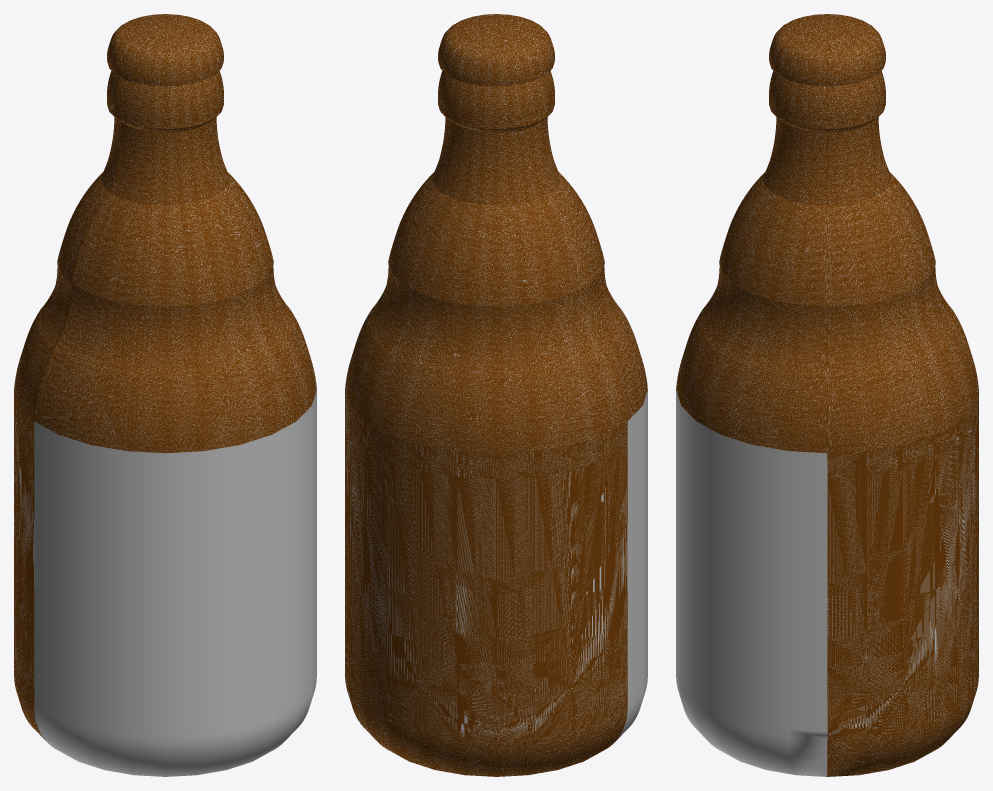
The picture shows the model from 3 angles, left to right: view 1: azimuth 30°, elevation 25°; view 2: azimuth 150°, elevation 25°; view 3: azimuth 270°, elevation 25°; orthographic projection.
Visible parts, largest first — view 1: mesh1_mesh1-geometry, mesh2_mesh2-geometry; view 2: mesh1_mesh1-geometry, mesh2_mesh2-geometry; view 3: mesh1_mesh1-geometry, mesh2_mesh2-geometry.
Boxes of the visible parts, left/top/right/bottom form: mesh1_mesh1-geometry: left=14, top=71, right=316, bottom=776; mesh2_mesh2-geometry: left=107, top=14, right=223, bottom=86; mesh1_mesh1-geometry: left=345, top=71, right=647, bottom=776; mesh2_mesh2-geometry: left=438, top=14, right=554, bottom=86; mesh1_mesh1-geometry: left=676, top=71, right=978, bottom=776; mesh2_mesh2-geometry: left=769, top=14, right=885, bottom=86.
Bounding box in the file's own units: 0.344 × 0.8737 × 0.344.
